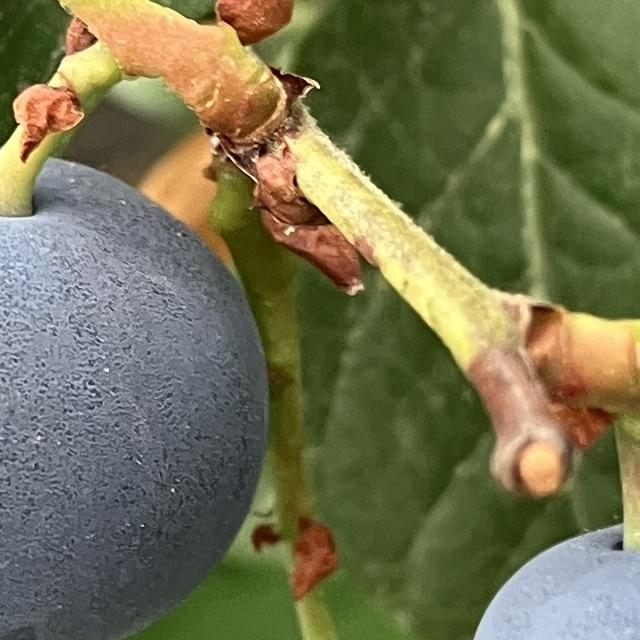Blueberries: (0, 125, 269, 640)
